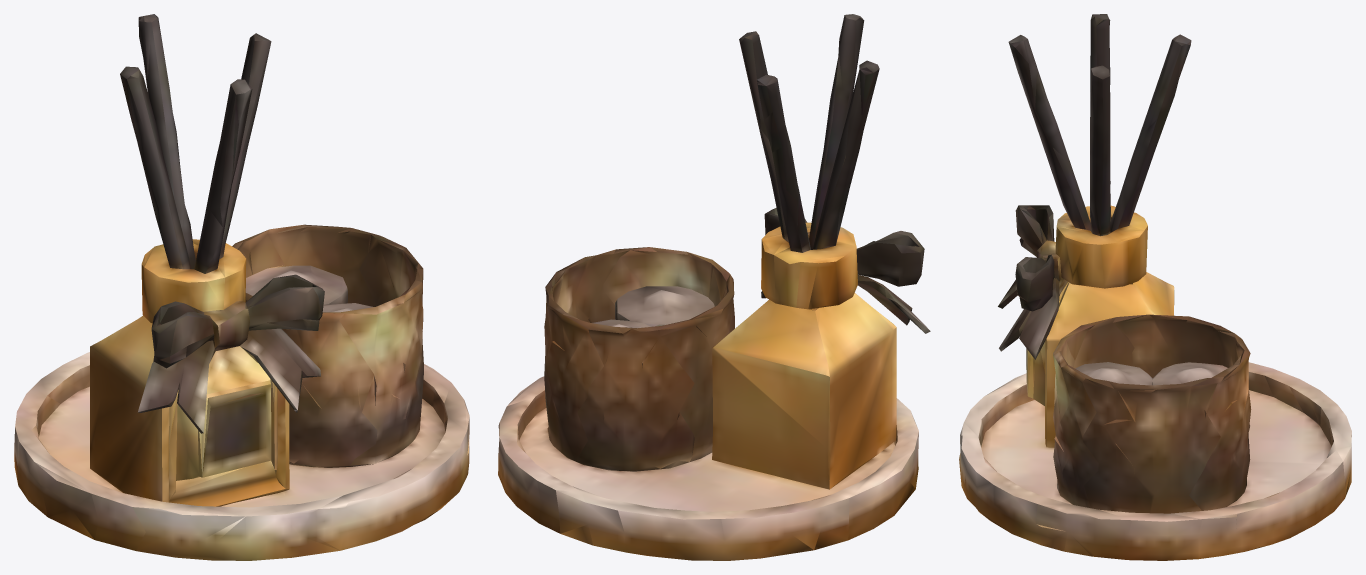
The model's file is deco26.glb.
3 views of the same model, side by side, from view 1: azimuth 30°, elevation 25°; view 2: azimuth 150°, elevation 25°; view 3: azimuth 270°, elevation 25° (orthographic). The views are drawn at different scales.
Size of the model in its own units: 0.2531 by 0.2813 by 0.2466.
1 material, 1 textured.
